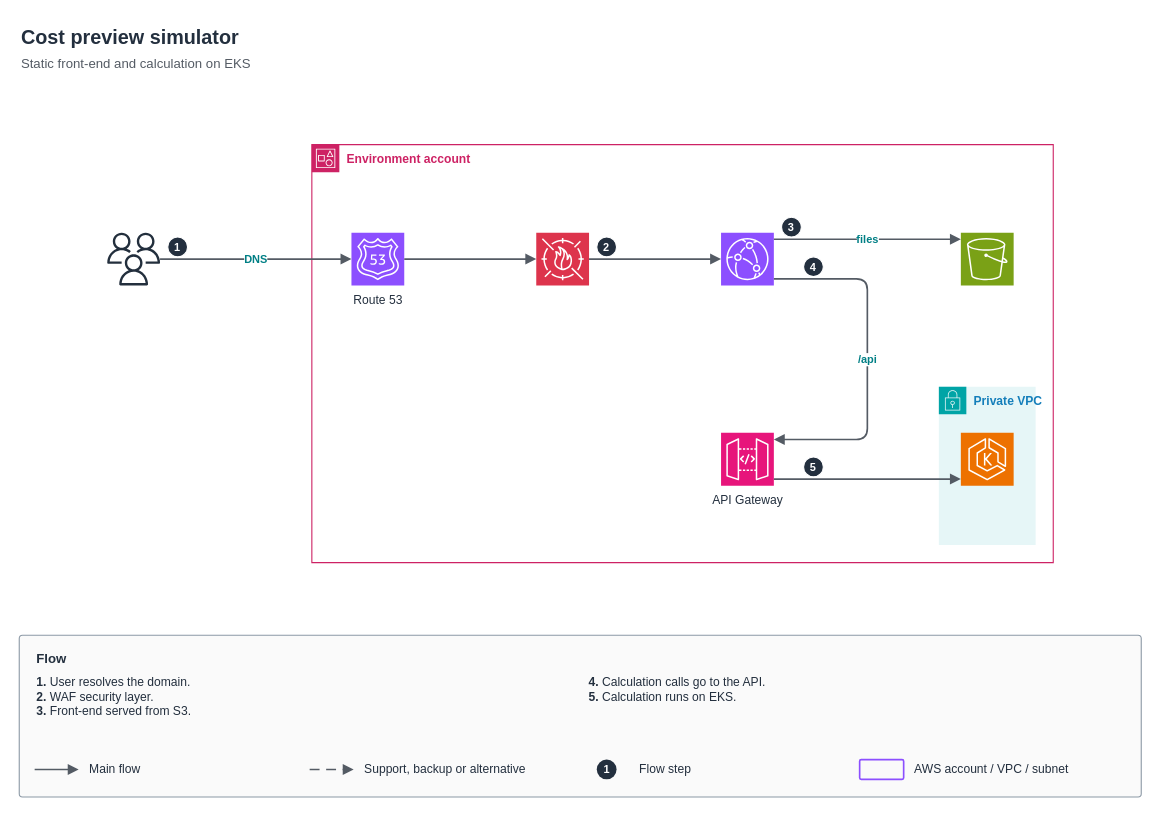
Some shapes in this 1161 by 816 pixel diagram are drawn without their labels. The centre of each missing label's shape, as x and y in pixels:
AWS WAF: pixel 562 258
CloudFront: pixel 747 258
EKS calculations: pixel 987 459
S3 front-end: pixel 987 258
Users: pixel 133 258
